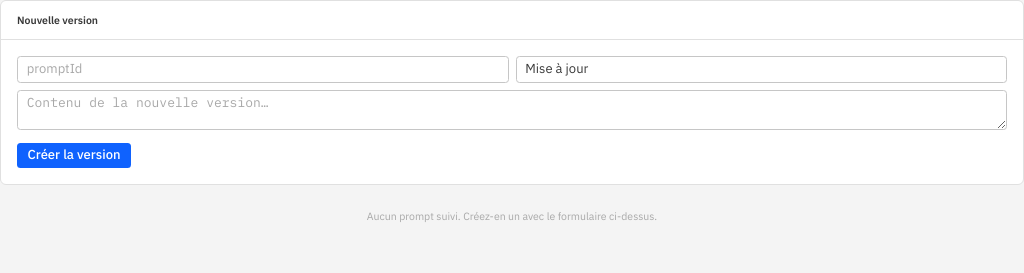
Scenario: VersionHistory › should validate empty promptId
Click the button "Créer la version" at {"x": 74, "y": 155}, box [17,143,131,168]
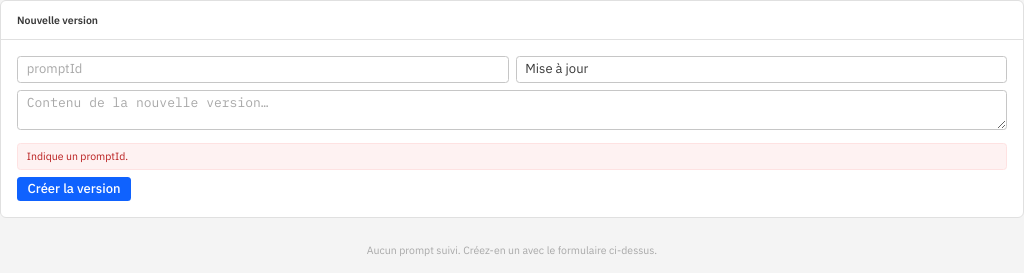
Expected: the text "Indique un promptId" is shown, [27,149,128,163]
